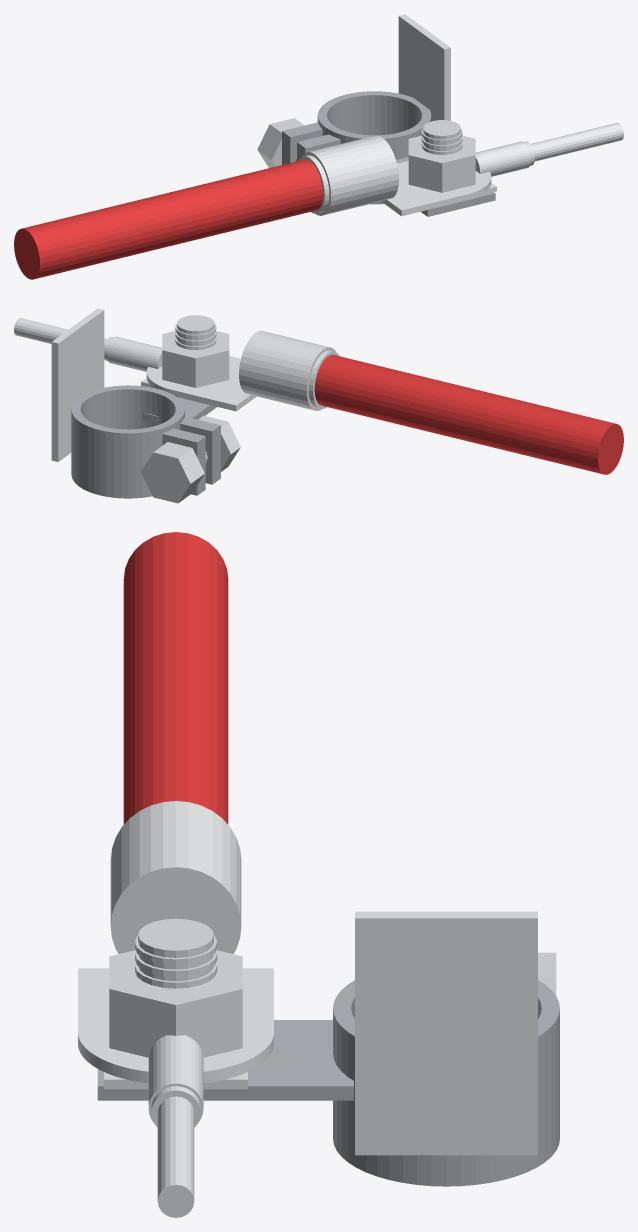
Rendered from gx470-clamp-pos.glb.
3 views of the same model, one above another, from view 1: azimuth 30°, elevation 25°; view 2: azimuth 150°, elevation 25°; view 3: azimuth 270°, elevation 25° (orthographic). The views are drawn at different scales.
Parts seen in each view (by area): view 1: cable_thick, ring_thick, clamp, strap, ring_end, m8_nut, m8_stud, bolt, tab; view 2: cable_thick, clamp, ring_thick, strap, bolt, m8_nut, ring_end, m8_stud, tab; view 3: strap, cable_thick, ring_thick, clamp, m8_nut, ring_end, tab, m8_stud.
Boxes of the visible parts, x1,y1,x2,y2 form: cable_thick: [14, 159, 323, 279]; ring_thick: [298, 135, 491, 216]; clamp: [282, 91, 431, 204]; strap: [398, 14, 450, 121]; ring_end: [475, 122, 623, 195]; m8_nut: [408, 135, 475, 192]; m8_stud: [421, 120, 462, 154]; bolt: [257, 118, 304, 167]; tab: [396, 157, 495, 216]; cable_thick: [314, 354, 623, 474]; clamp: [71, 385, 220, 498]; ring_thick: [146, 330, 339, 411]; strap: [51, 308, 104, 461]; bolt: [141, 415, 240, 503]; m8_nut: [162, 331, 229, 387]; ring_end: [14, 318, 162, 387]; m8_stud: [175, 315, 216, 349]; tab: [142, 397, 216, 423]; strap: [355, 911, 537, 1155]; cable_thick: [123, 532, 228, 824]; ring_thick: [78, 801, 273, 1083]; clamp: [333, 980, 559, 1186]; m8_nut: [109, 950, 242, 1057]; ring_end: [104, 1035, 247, 1217]; tab: [97, 1020, 353, 1100]; m8_stud: [135, 918, 217, 988].
Bounding box in the file's own units: 0.1328 × 0.0292 × 0.0468.
